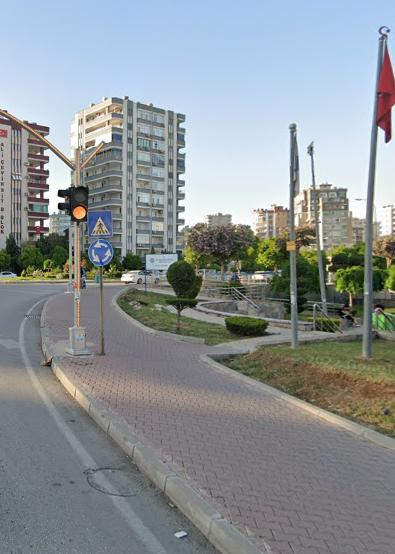crossroads: (88, 239, 114, 265)
yellowlight: (68, 184, 88, 224)
